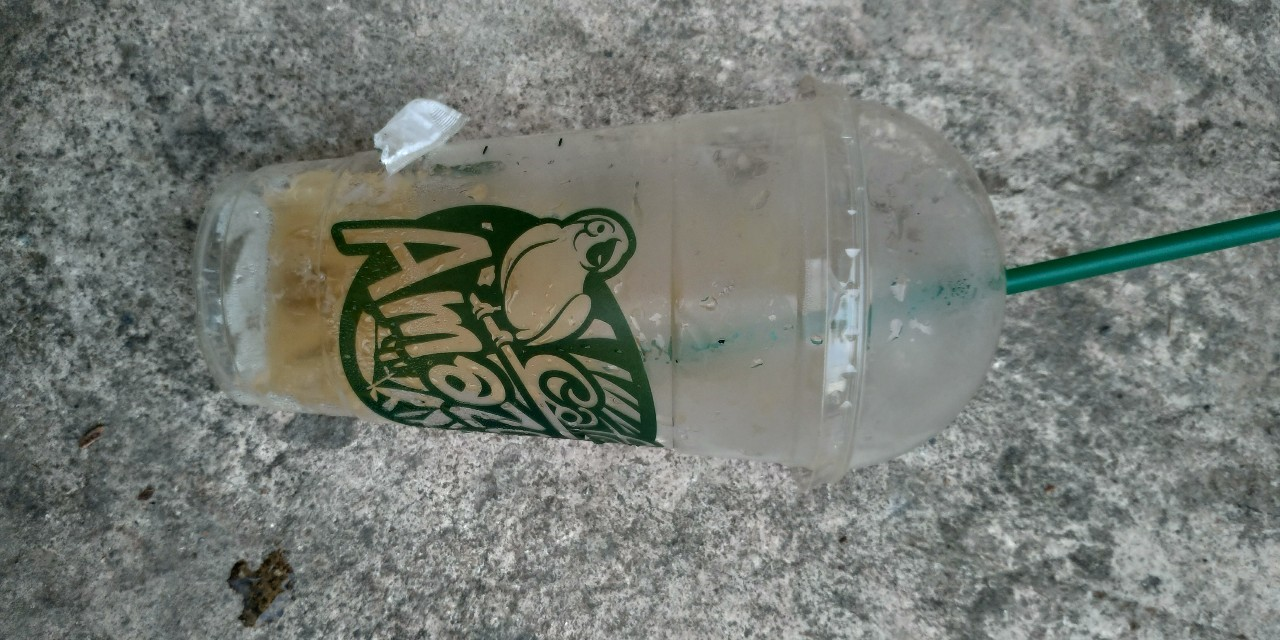PlasticCup: (190, 79, 1007, 471)
